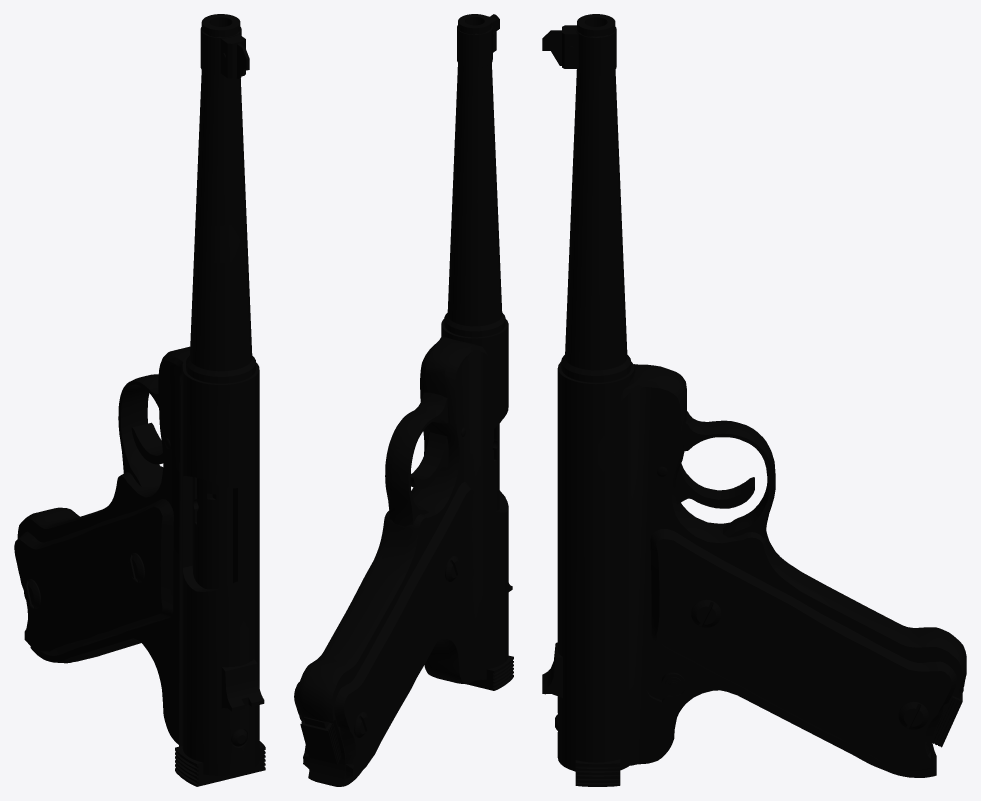
Rendered from RugerMkII.fbx.
The picture shows the model from 3 angles, left to right: view 1: azimuth 30°, elevation 25°; view 2: azimuth 150°, elevation 25°; view 3: azimuth 270°, elevation 25°; orthographic projection. The views are drawn at different scales.
Visible parts, largest first — view 1: asset_RugerMkII.001; view 2: asset_RugerMkII.001; view 3: asset_RugerMkII.001.
Boxes of the visible parts, box(x1,y1,x2,y2) form: asset_RugerMkII.001: box(14, 14, 265, 786); asset_RugerMkII.001: box(294, 14, 513, 786); asset_RugerMkII.001: box(542, 14, 966, 786).
Size of the model in its own units: 0.0169 by 0.1656 by 0.0851.
